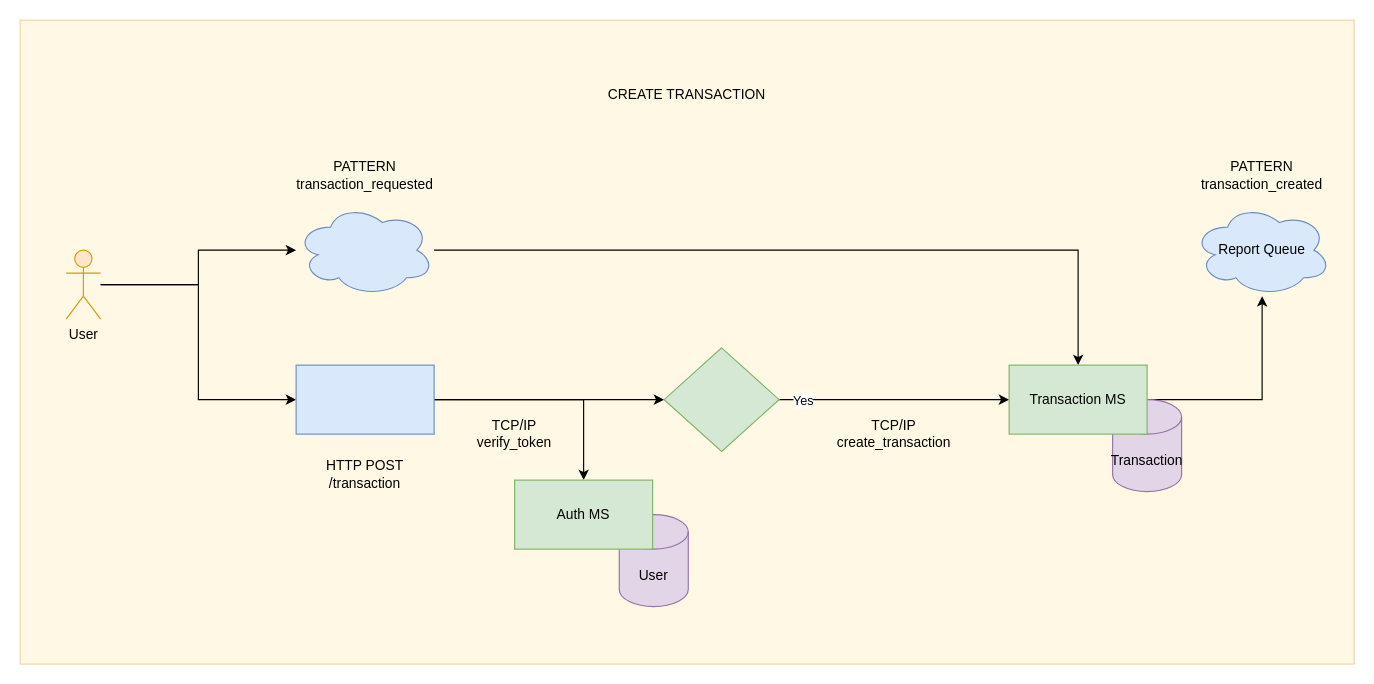
Some shapes in this 1374 by 684 pixel diagram are drawn without their labels. Here are the shapes that lost their labels. From the top down, the box of each, then its label:
(295, 203, 434, 296): Transaction Queue
(295, 364, 434, 434): API Gateway
(663, 347, 779, 451): isAuthenticated
